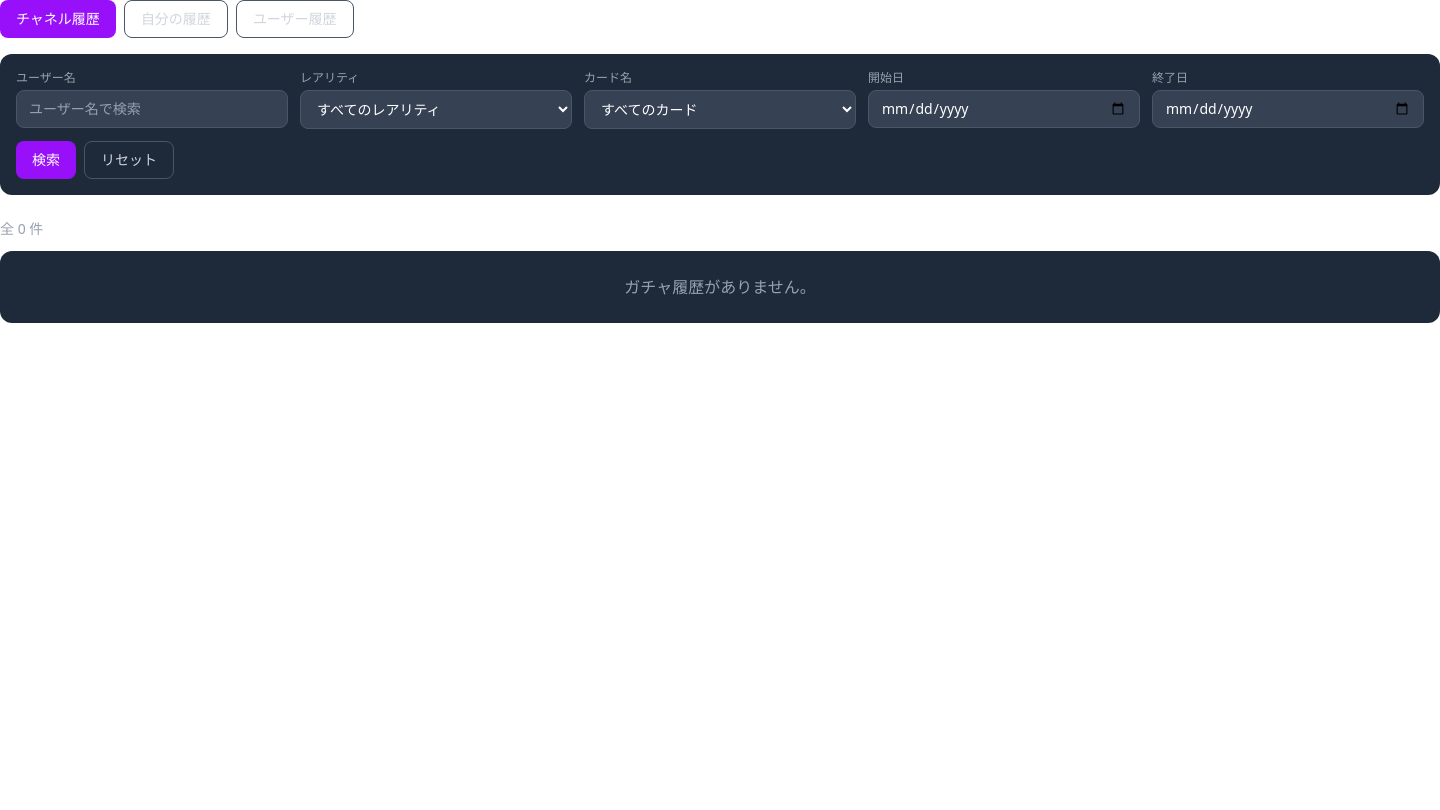
Test case: GachaHistoryTable completion history empty state (#873) › keeps the existing user gacha history visible when completions is empty
Click the button "ユーザー履歴".
click(295, 19)  # box 236,0 -> 354,38
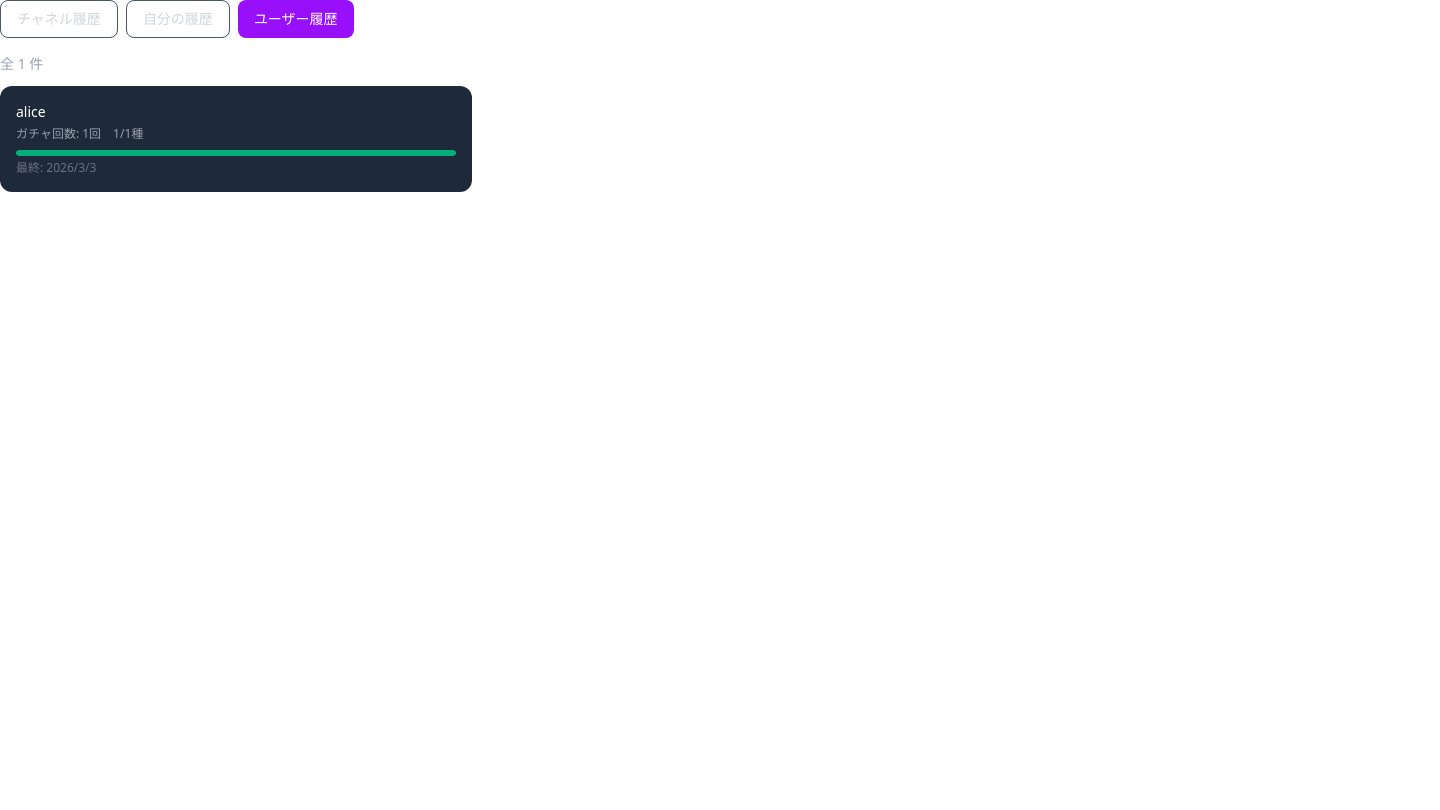
Expected: the button "alice ガチャ回数: 1回 1/1種 最終: 2026/3/3" is shown
Click the button "alice ガチャ回数: 1回 1/1種 最終: 2026/3/3".
click(59, 134)  # box 0,86 -> 472,192
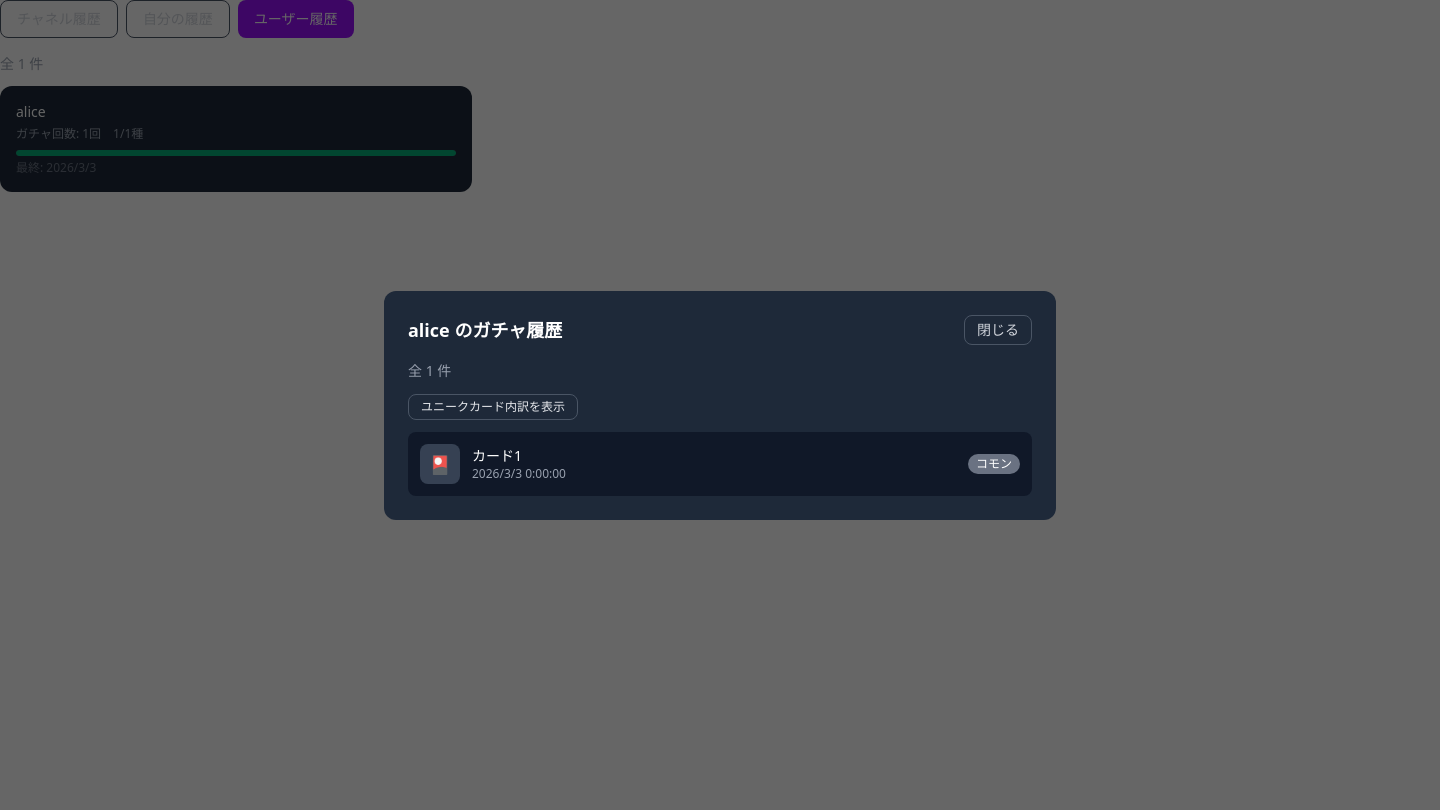
Expected: the text "カード1" is shown, 472,446 -> 522,464
